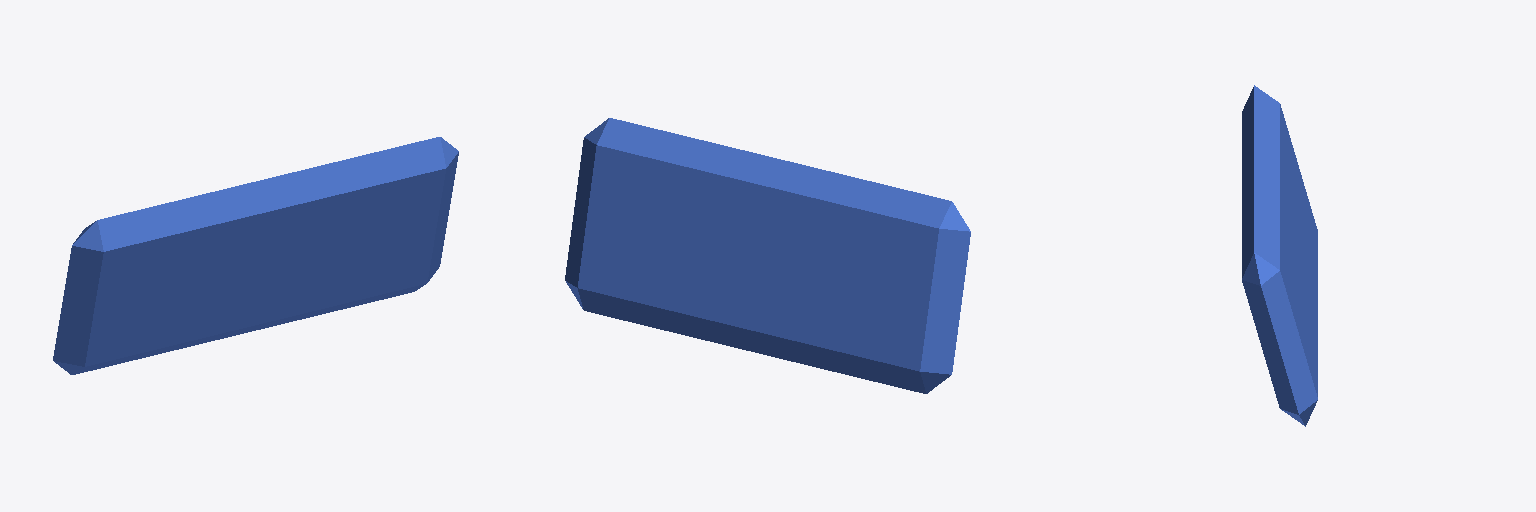
Rendered from pillowBlueLong.obj.
The picture shows the model from 3 angles: view 1: azimuth 30°, elevation 25°; view 2: azimuth 150°, elevation 25°; view 3: azimuth 270°, elevation 25°; orthographic projection.
Parts seen in each view (by area): view 1: pillowBlueLong; view 2: pillowBlueLong; view 3: pillowBlueLong.
Part boxes in pixels (left/top/right/bottom): pillowBlueLong: left=53, top=137, right=458, bottom=374; pillowBlueLong: left=565, top=118, right=970, bottom=393; pillowBlueLong: left=1242, top=85, right=1317, bottom=426.
Bounding box in the file's own units: 0.5166 × 0.2222 × 0.0885.